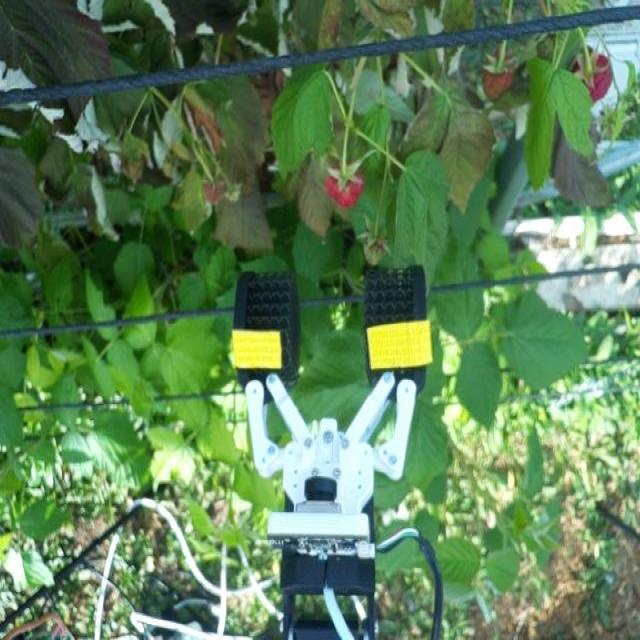Riped berries: (567, 45, 612, 100), (322, 161, 365, 211), (481, 46, 518, 100)
